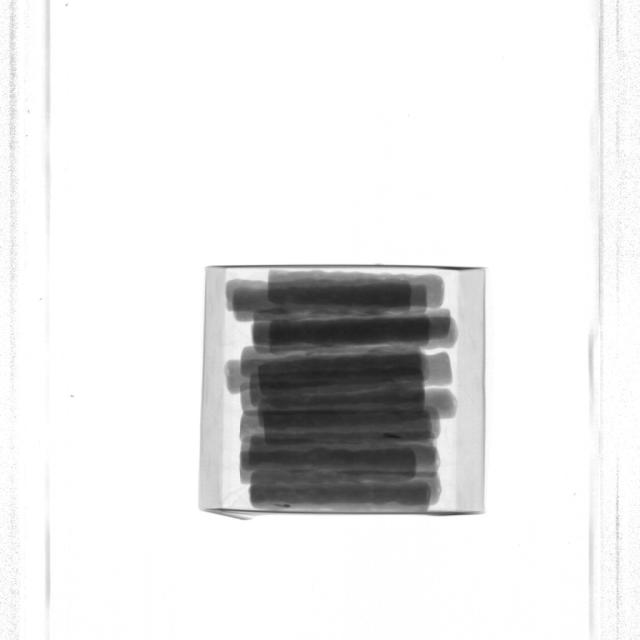ym: (384, 432, 404, 440), (273, 503, 292, 508)
